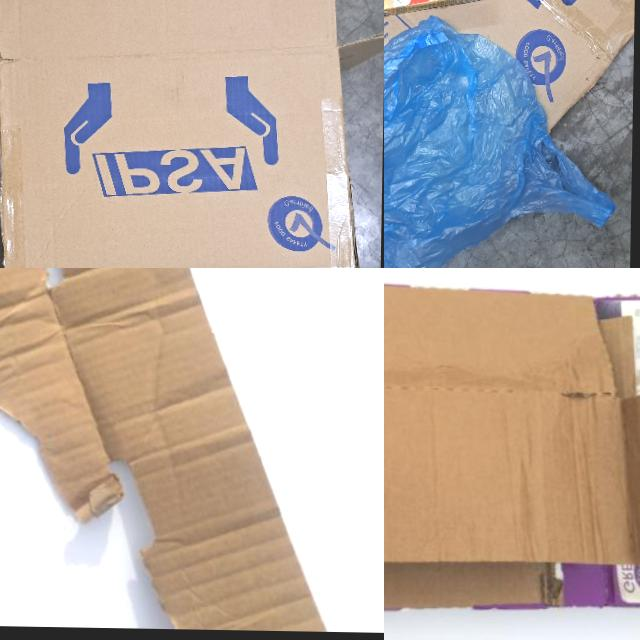caixinha: (384, 0, 491, 19)
papelão: (0, 268, 337, 631), (0, 0, 384, 268), (384, 280, 640, 623), (384, 0, 640, 142)
sacola plástica: (384, 13, 620, 268)
